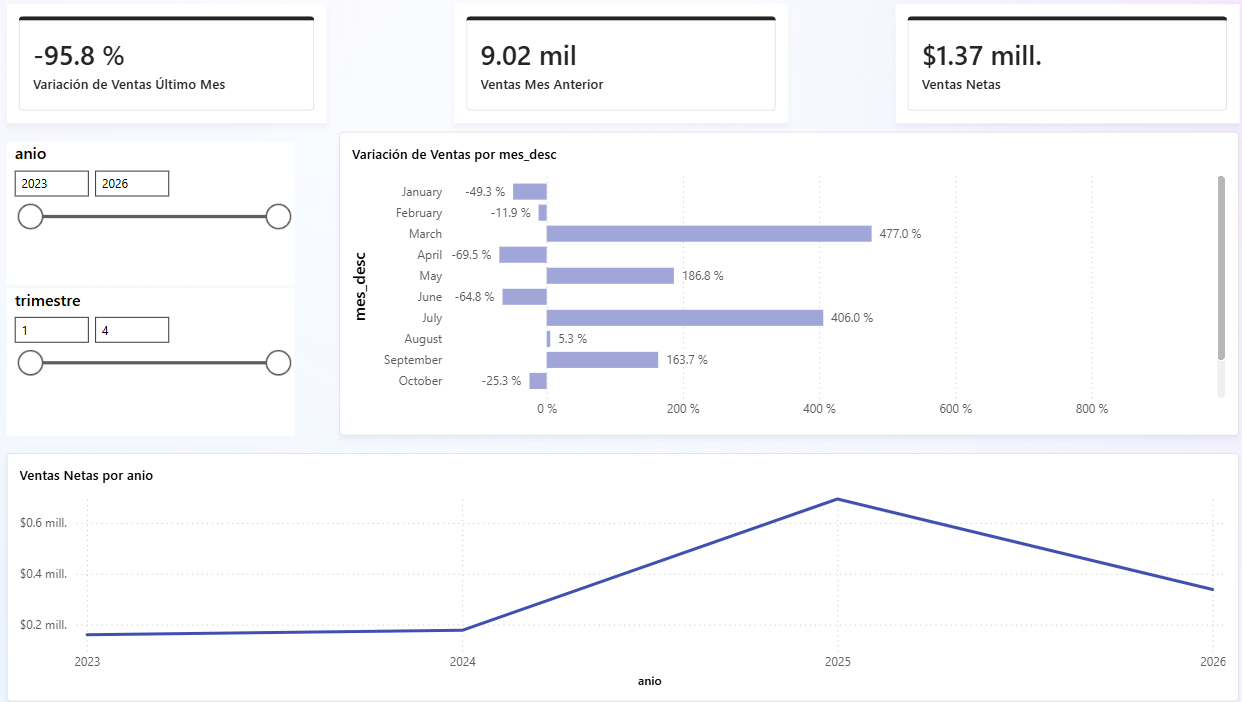

This screenshot's page, from the dashboard's own definition file:
{"tool":"powerbi","page":{"name":"KPI 2 - Variación de Ventas","canvas":[1280,720],"ordinal":3},"visuals":[{"type":"cardVisual","fields":{"Data":["_Medidas.Variación de Ventas"]},"box":[28.8,11.2,318.8,118.8],"z":0},{"type":"lineChart","fields":{"Category":["marts dim_fecha.Calendario.anio","marts dim_fecha.Calendario.trimestre","marts dim_fecha.Calendario.mes_desc","marts dim_fecha.Calendario.fecha"],"Y":["_Medidas.Ventas Netas"]},"box":[28.8,457.5,1226.2,247.5],"z":1000},{"type":"slicer","fields":{"Values":["marts dim_fecha.anio"]},"box":[28.8,147.5,286.2,141.2],"z":2000},{"type":"slicer","fields":{"Values":["marts dim_fecha.trimestre"]},"box":[28.8,293.8,286.2,146.2],"z":3000},{"type":"clusteredBarChart","fields":{"Category":["marts dim_fecha.mes_desc"],"Y":["_Medidas.Variación de Ventas"]},"box":[360,137.5,895,302.5],"z":4000},{"type":"cardVisual","fields":{"Data":["_Medidas.Ventas Mes Anterior"]},"box":[473.8,11.2,332.5,118.8],"z":5000},{"type":"cardVisual","fields":{"Data":["_Medidas.Ventas Netas"]},"box":[912.5,11.2,342.5,118.8],"z":6000}]}

Visuals, with their boxes in screenshot pixels (x1, y1, x2, y2), scaled from the page's 1280x720 canvas onto the 1242x702 screenshot:
cardVisual - _Medidas.Variación de Ventas: <box>28,11,337,127</box>
lineChart - marts dim_fecha.Calendario.anio x marts dim_fecha.Calendario.trimestre: <box>28,446,1218,687</box>
slicer - marts dim_fecha.anio: <box>28,144,306,281</box>
slicer - marts dim_fecha.trimestre: <box>28,286,306,429</box>
clusteredBarChart - marts dim_fecha.mes_desc x _Medidas.Variación de Ventas: <box>349,134,1218,429</box>
cardVisual - _Medidas.Ventas Mes Anterior: <box>460,11,782,127</box>
cardVisual - _Medidas.Ventas Netas: <box>885,11,1218,127</box>
